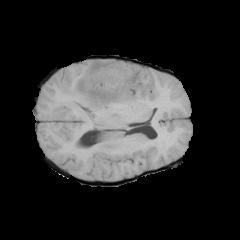glioma: (63, 61, 141, 116)
